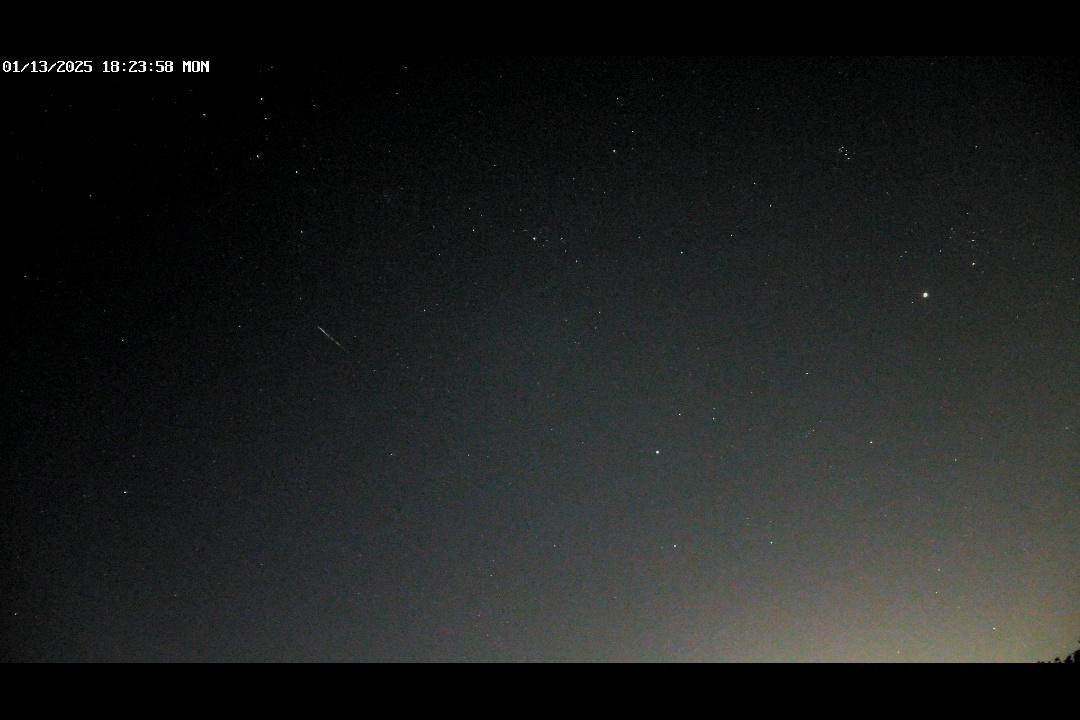meteorite: (309, 313, 364, 361)
